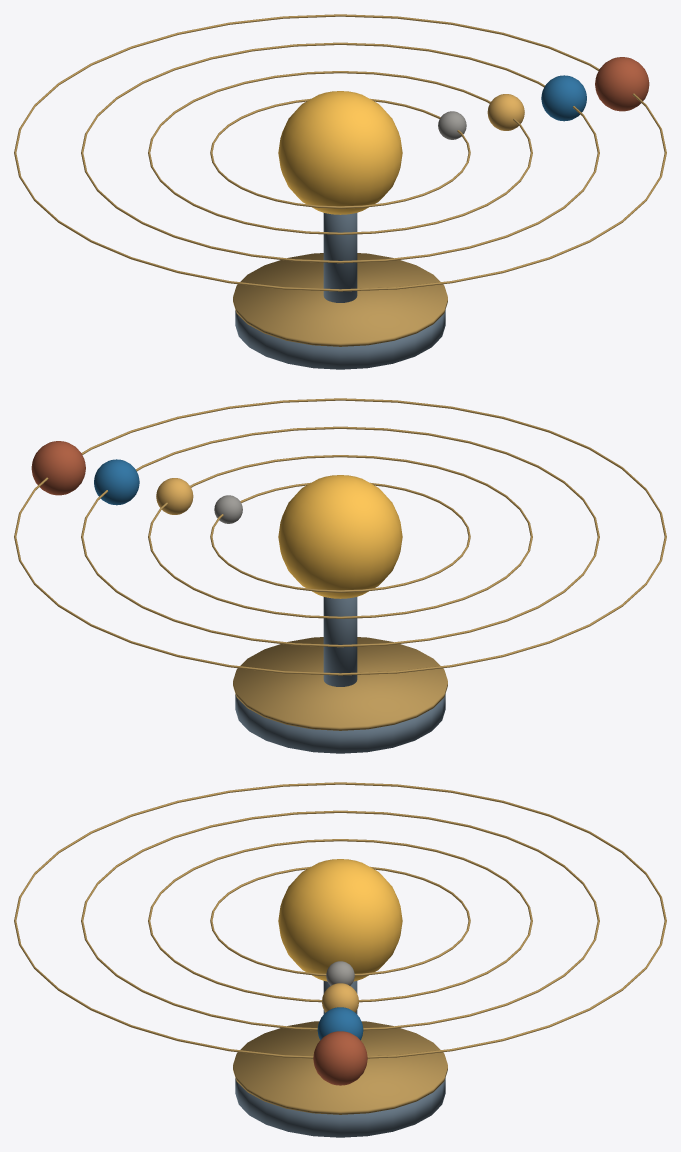
Rendered from earthsky-orrery-v1-normal.glb.
3 renders of one model, top to bottom at view 1: azimuth 30°, elevation 25°; view 2: azimuth 150°, elevation 25°; view 3: azimuth 270°, elevation 25°, orthographic.
Parts seen in each view (by area): view 1: brass-trim, sun, weighted-base, orbit.003, orbit.002, pedestal, orbit.001, planet-3, planet-2, orbit, planet-1, planet-0; view 2: brass-trim, sun, weighted-base, orbit.003, orbit.002, pedestal, orbit.001, planet-3, planet-2, orbit, planet-1, planet-0; view 3: brass-trim, sun, weighted-base, orbit.003, orbit.002, orbit.001, planet-3, orbit, planet-2, planet-1, planet-0.
Part boxes in pixels (left/top/right/bottom): brass-trim: left=233, top=253, right=447, bottom=346; sun: left=278, top=91, right=402, bottom=214; weighted-base: left=235, top=310, right=445, bottom=369; orbit.003: left=14, top=14, right=666, bottom=291; orbit.002: left=81, top=42, right=599, bottom=263; pedestal: left=323, top=213, right=357, bottom=302; orbit.001: left=148, top=71, right=532, bottom=234; planet-3: left=595, top=57, right=649, bottom=111; planet-2: left=541, top=75, right=586, bottom=121; orbit: left=210, top=98, right=470, bottom=208; planet-1: left=487, top=94, right=524, bottom=130; planet-0: left=438, top=111, right=466, bottom=139; brass-trim: left=233, top=637, right=447, bottom=730; sun: left=278, top=475, right=402, bottom=598; weighted-base: left=235, top=694, right=445, bottom=753; orbit.003: left=14, top=398, right=666, bottom=675; orbit.002: left=81, top=426, right=599, bottom=647; pedestal: left=323, top=597, right=357, bottom=686; orbit.001: left=148, top=455, right=532, bottom=618; planet-3: left=31, top=441, right=85, bottom=495; planet-2: left=94, top=459, right=139, bottom=505; orbit: left=210, top=482, right=470, bottom=592; planet-1: left=156, top=478, right=193, bottom=514; planet-0: left=214, top=495, right=242, bottom=523; brass-trim: left=233, top=1021, right=447, bottom=1114; sun: left=278, top=859, right=402, bottom=981; weighted-base: left=235, top=1078, right=445, bottom=1137; orbit.003: left=14, top=782, right=666, bottom=1058; orbit.002: left=81, top=810, right=599, bottom=1030; orbit.001: left=148, top=839, right=532, bottom=1002; planet-3: left=313, top=1031, right=367, bottom=1085; orbit: left=210, top=866, right=470, bottom=975; planet-2: left=317, top=1007, right=363, bottom=1040; planet-1: left=322, top=983, right=358, bottom=1012; planet-0: left=326, top=961, right=354, bottom=985.
Size of the model in its own units: 1.42 by 0.5275 by 1.37.
